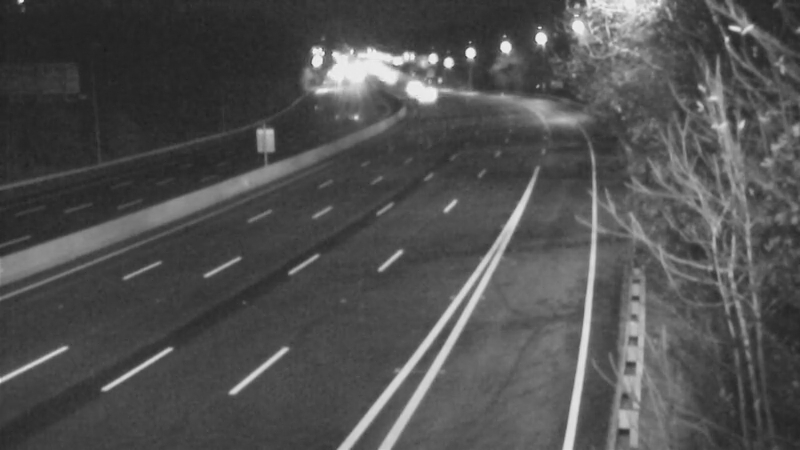vehicle: (386, 64, 436, 114), (399, 66, 449, 116)
